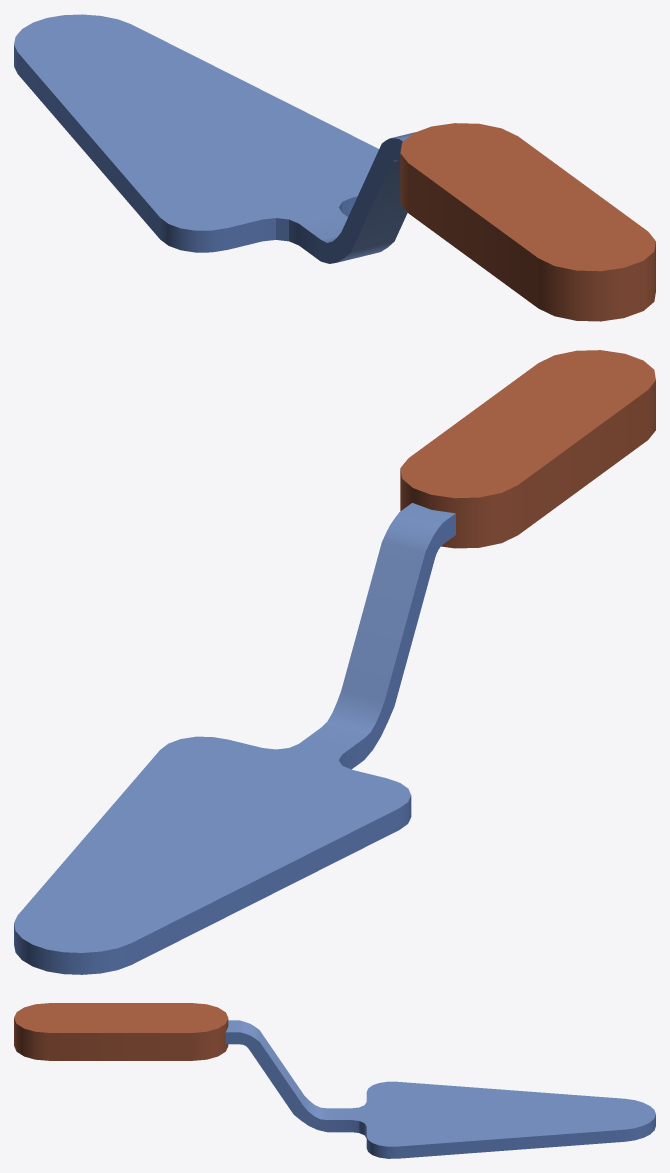
File: Knife C.fbx
3 views of the same model, one above another, from view 1: azimuth 30°, elevation 25°; view 2: azimuth 150°, elevation 25°; view 3: azimuth 270°, elevation 25° (orthographic). The views are drawn at different scales.
Parts seen in each view (by area): view 1: Knife; view 2: Knife; view 3: Knife.
Boxes of the visible parts, x1,y1,x2,y2 form: Knife: (14, 14, 655, 321); Knife: (14, 350, 655, 974); Knife: (14, 1003, 655, 1158).
Bounding box in the file's own units: 0.2126 × 0.1652 × 0.8875.
